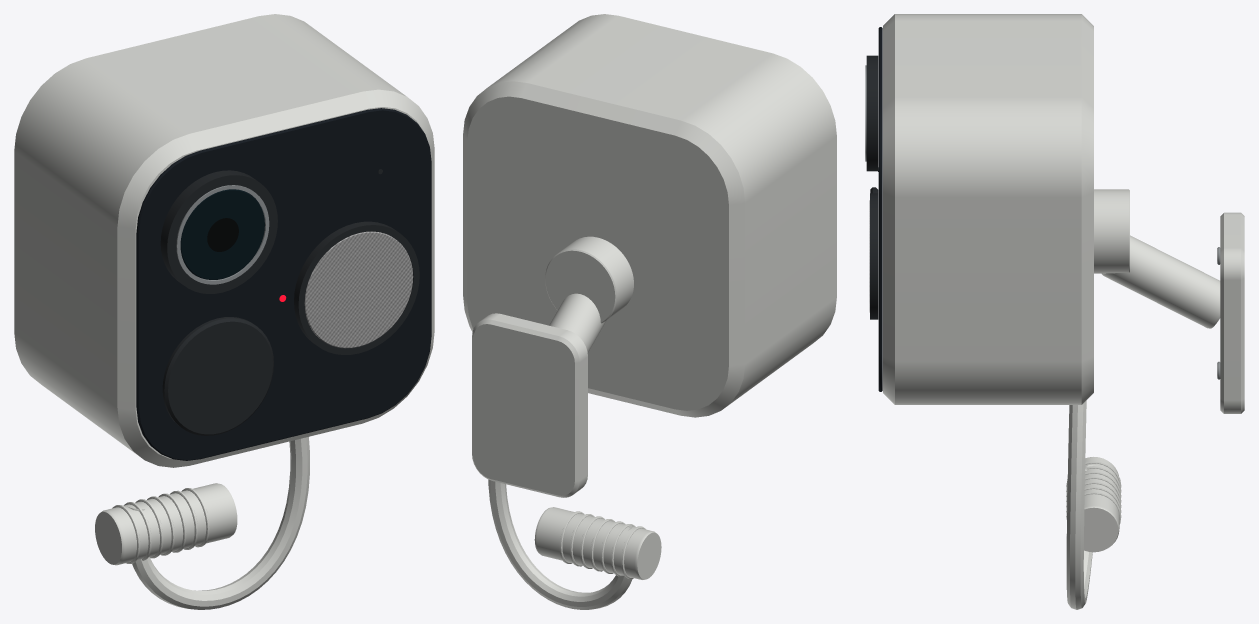
The model's file is 04_Security_Camera.fbx.
3 views of the same model, side by side, from view 1: azimuth 30°, elevation 25°; view 2: azimuth 150°, elevation 25°; view 3: azimuth 270°, elevation 25° (orthographic). The views are drawn at different scales.
Parts seen in each view (by area): view 1: Camera_Housing, Black_Front_Fascia, PIR_Sensor_Window, Floodlight_Diffuser, Weatherproof_Connector, Weatherproof_Power_Cable, Optical_Lens, Lens_Barrel_Rim, Floodlight_Rim, Connector_Grip_Ribs, Lens_Metal_Retainer, Lens_Inner_Aperture; view 2: Camera_Housing, Wall_Base, Weatherproof_Connector, Tilt_Joint, Weatherproof_Power_Cable, Mount_Arm, Connector_Grip_Ribs; view 3: Camera_Housing, Mount_Arm, Wall_Base, Weatherproof_Power_Cable, Tilt_Joint, Weatherproof_Connector, Black_Front_Fascia, Lens_Barrel_Rim, Floodlight_Rim, Connector_Grip_Ribs.
Boxes of the visible parts, x1,y1,x2,y2 form: Camera_Housing: [14, 14, 434, 467]; Black_Front_Fascia: [136, 108, 431, 460]; PIR_Sensor_Window: [162, 317, 273, 435]; Floodlight_Diffuser: [304, 231, 413, 348]; Weatherproof_Connector: [95, 483, 237, 565]; Weatherproof_Power_Cable: [128, 437, 309, 609]; Optical_Lens: [180, 189, 264, 279]; Lens_Barrel_Rim: [160, 170, 277, 293]; Floodlight_Rim: [294, 221, 419, 354]; Connector_Grip_Ribs: [112, 488, 209, 563]; Lens_Metal_Retainer: [176, 185, 269, 284]; Lens_Inner_Aperture: [207, 218, 238, 251]; Camera_Housing: [463, 14, 836, 417]; Wall_Base: [472, 313, 587, 497]; Weatherproof_Connector: [534, 507, 661, 579]; Tilt_Joint: [545, 236, 633, 323]; Weatherproof_Power_Cable: [488, 479, 632, 609]; Mount_Arm: [549, 293, 606, 352]; Connector_Grip_Ribs: [559, 511, 645, 578]; Camera_Housing: [883, 14, 1093, 404]; Mount_Arm: [1102, 235, 1220, 328]; Wall_Base: [1220, 212, 1244, 413]; Weatherproof_Power_Cable: [1066, 400, 1097, 609]; Tilt_Joint: [1094, 189, 1129, 273]; Weatherproof_Connector: [1084, 457, 1119, 552]; Black_Front_Fascia: [878, 27, 882, 391]; Lens_Barrel_Rim: [866, 55, 878, 171]; Floodlight_Rim: [870, 193, 878, 319]; Connector_Grip_Ribs: [1066, 461, 1121, 524].
Bounding box in the file's own units: 0.11 × 0.192 × 0.1258.
Materials: 8 (1 with a texture image).
